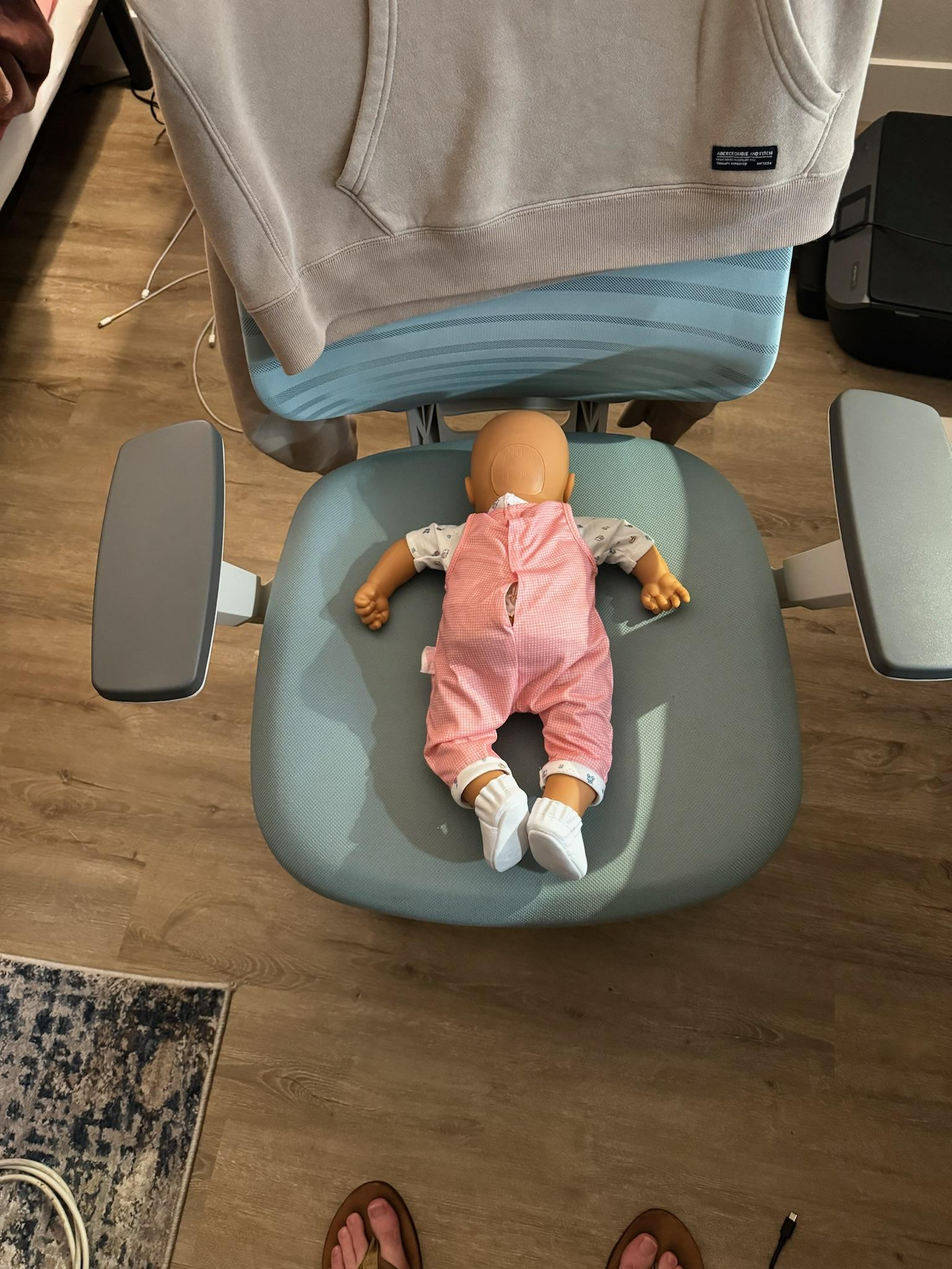baby: (351, 403, 671, 886)
